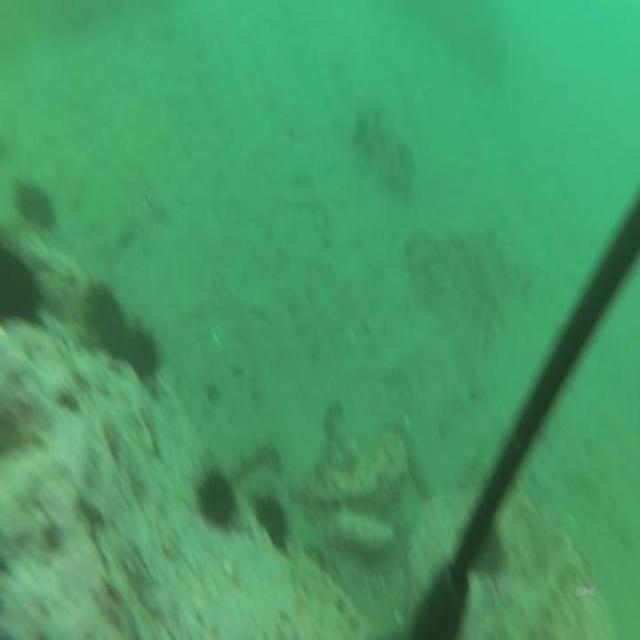echinus: (81, 274, 127, 364), (0, 240, 48, 326), (246, 484, 292, 556), (193, 465, 236, 534), (124, 313, 162, 389), (12, 170, 54, 230)
